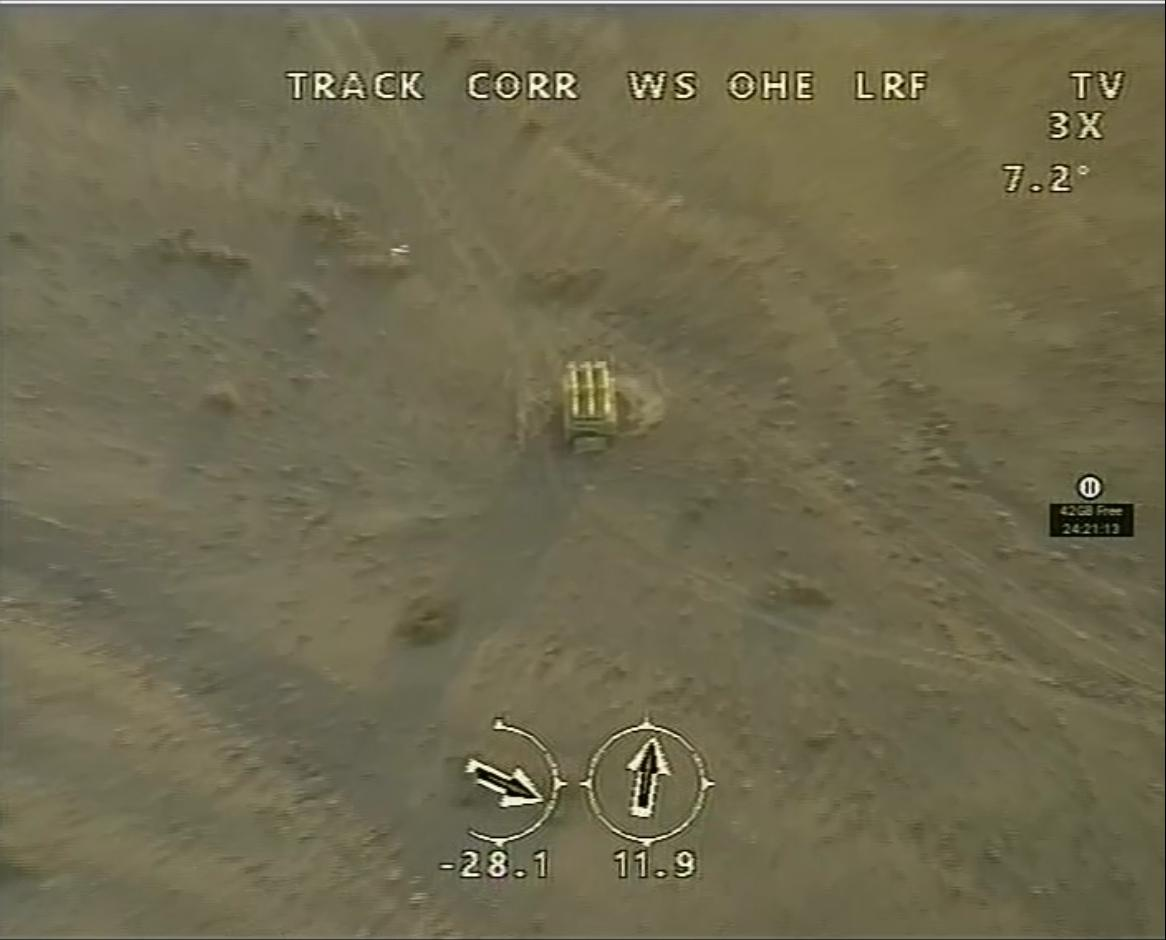armored_car: (560, 356, 621, 454)
